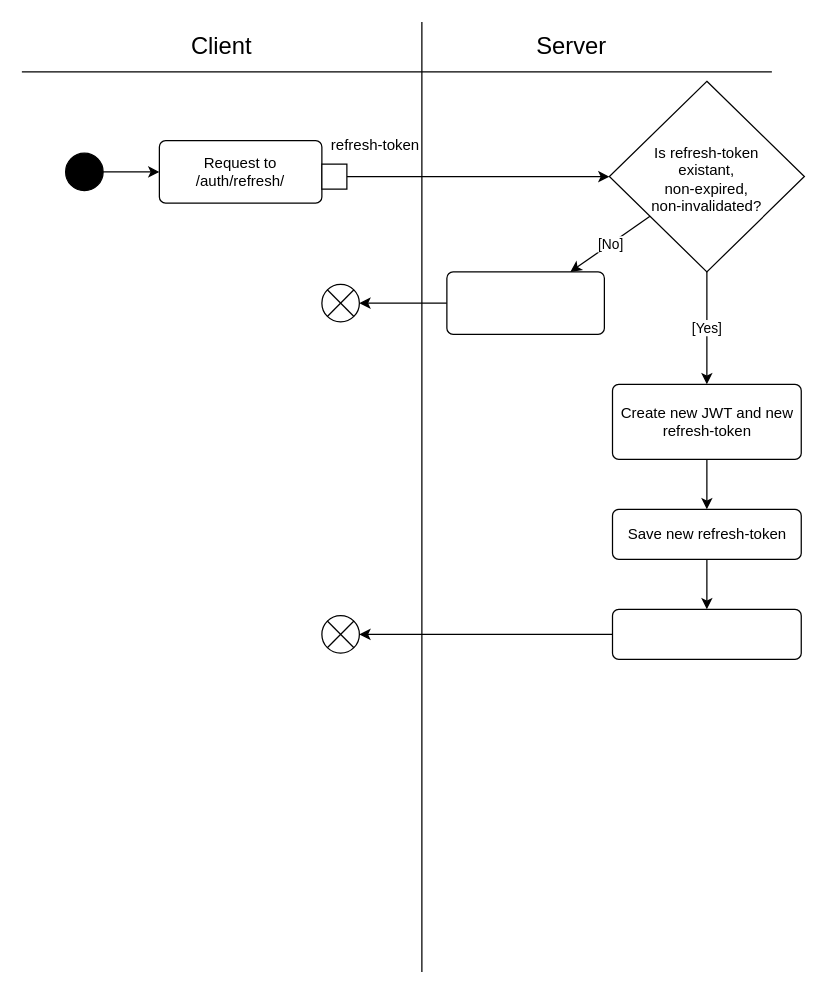
Image size: 826x995. Some labels were removed from this diagram. The centre of each missing label's shape, as x and y in pixels:
Return both tokens: [706,633]
Return status 401: [525,302]
